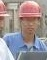boots: (0, 55, 11, 60)
hard-hat: (0, 0, 20, 25)
ppe-suit: (0, 30, 24, 60)
vest: (0, 30, 24, 60)
